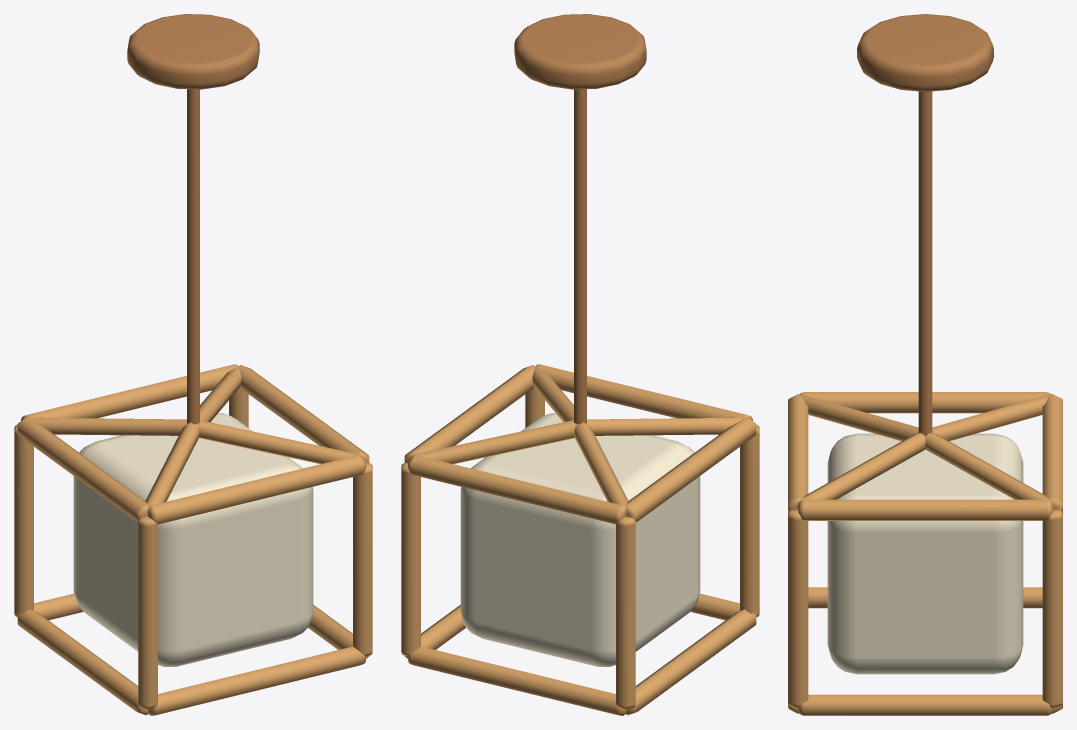
File: paper_lattice_pendant.glb
3 views of the same model, side by side, from view 1: azimuth 30°, elevation 25°; view 2: azimuth 150°, elevation 25°; view 3: azimuth 270°, elevation 25° (orthographic). The views are drawn at different scales.
Parts seen in each view (by area): view 1: paper_lattice_pendant_mesh; view 2: paper_lattice_pendant_mesh; view 3: paper_lattice_pendant_mesh.
Boxes of the visible parts, x1,y1,x2,y2 form: paper_lattice_pendant_mesh: (14,14,372,715); paper_lattice_pendant_mesh: (401,14,759,715); paper_lattice_pendant_mesh: (788,14,1062,715).
Size of the model in its own units: 0.284 by 0.702 by 0.2808.
